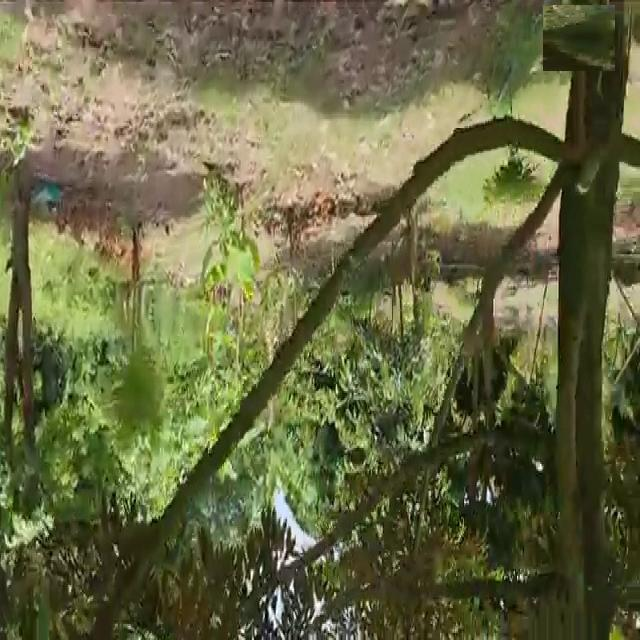durian: (545, 3, 614, 73)
